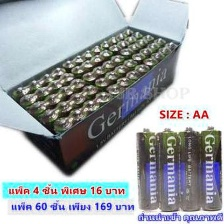battery: (153, 124, 182, 213), (177, 125, 204, 212), (134, 127, 161, 213), (198, 124, 223, 213), (51, 116, 81, 167), (37, 107, 61, 159), (26, 97, 48, 152), (68, 106, 92, 154), (53, 99, 73, 156), (44, 91, 64, 140), (81, 98, 101, 146), (68, 92, 87, 142), (12, 84, 33, 129), (56, 71, 76, 117), (19, 90, 40, 133), (81, 72, 100, 119), (80, 59, 97, 111), (92, 64, 109, 114), (95, 90, 115, 132), (59, 85, 77, 131), (45, 79, 66, 118), (69, 64, 85, 115), (37, 82, 53, 131), (89, 54, 106, 100), (67, 78, 86, 119), (105, 83, 123, 125), (49, 66, 68, 105), (101, 58, 117, 102), (120, 58, 137, 99), (113, 64, 129, 106), (137, 46, 155, 83), (60, 58, 78, 94), (100, 38, 117, 76), (39, 74, 59, 106), (116, 76, 134, 111), (94, 74, 109, 116), (113, 37, 129, 76), (103, 69, 117, 113), (81, 82, 96, 123), (161, 39, 176, 80), (140, 33, 153, 80), (98, 48, 113, 88), (107, 40, 121, 82), (133, 62, 148, 101), (144, 56, 158, 96), (110, 52, 124, 92), (126, 41, 140, 81), (26, 77, 42, 112), (133, 36, 145, 81), (152, 50, 165, 91), (117, 46, 130, 86), (158, 44, 170, 87), (131, 51, 146, 85), (152, 35, 167, 69), (146, 41, 160, 77), (76, 52, 93, 80), (123, 26, 135, 64), (126, 70, 139, 104), (93, 45, 105, 77)
book: (0, 0, 194, 182)
